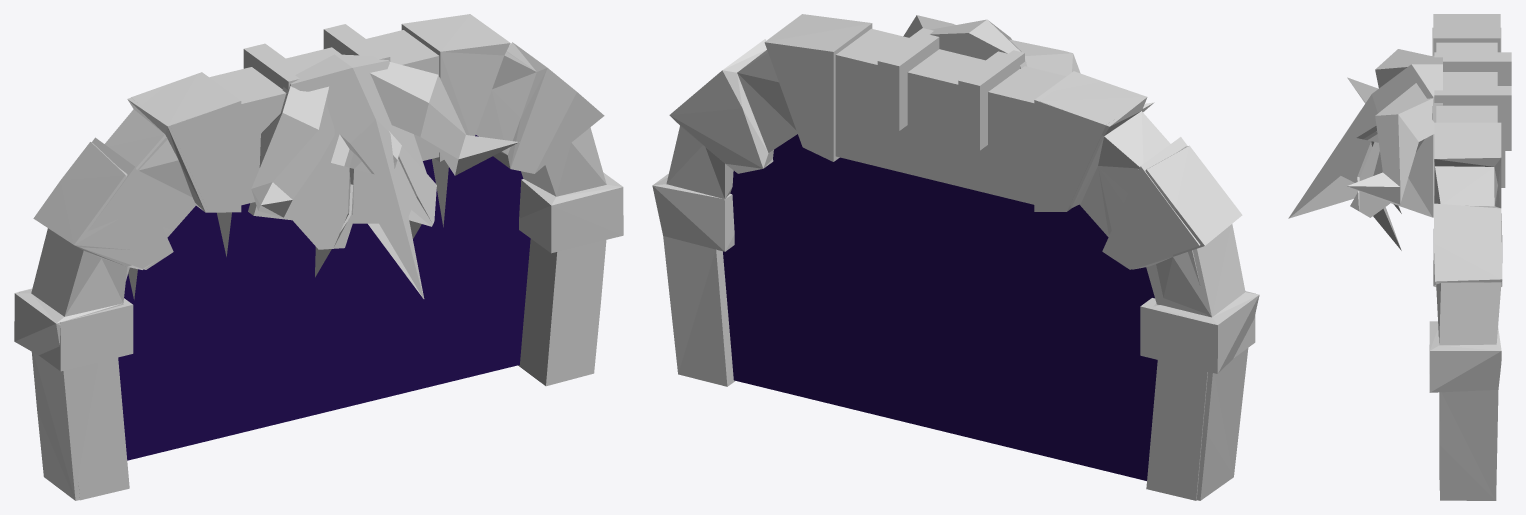
File: Cave_G.fbx
3 views of the same model, side by side, from view 1: azimuth 30°, elevation 25°; view 2: azimuth 150°, elevation 25°; view 3: azimuth 270°, elevation 25° (orthographic). The views are drawn at different scales.
Visible parts, largest first — view 1: Plane, Cone, Skull, Cube; view 2: Plane, Cone, Cube, Skull; view 3: Cone, Skull, Cube.
Part boxes in pixels (x1,y1,x2,y2): Plane: (118,135,530,460); Cone: (14,14,623,500); Skull: (248,54,519,298); Cube: (19,72,241,500); Plane: (723,134,1157,480); Cone: (652,14,1259,500); Cube: (1034,71,1255,500); Skull: (903,15,1154,111); Cone: (1373,14,1511,500); Skull: (1288,49,1442,218); Cube: (1432,15,1505,187).
Size of the model in its own units: 1833 by 1182 by 729.
